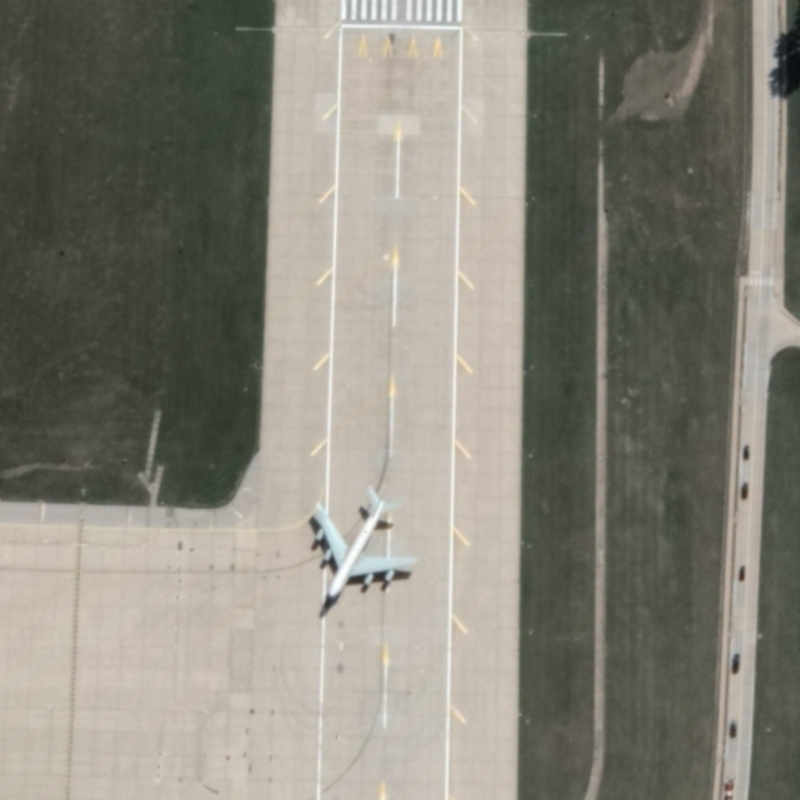A11: (297, 484, 418, 618)
